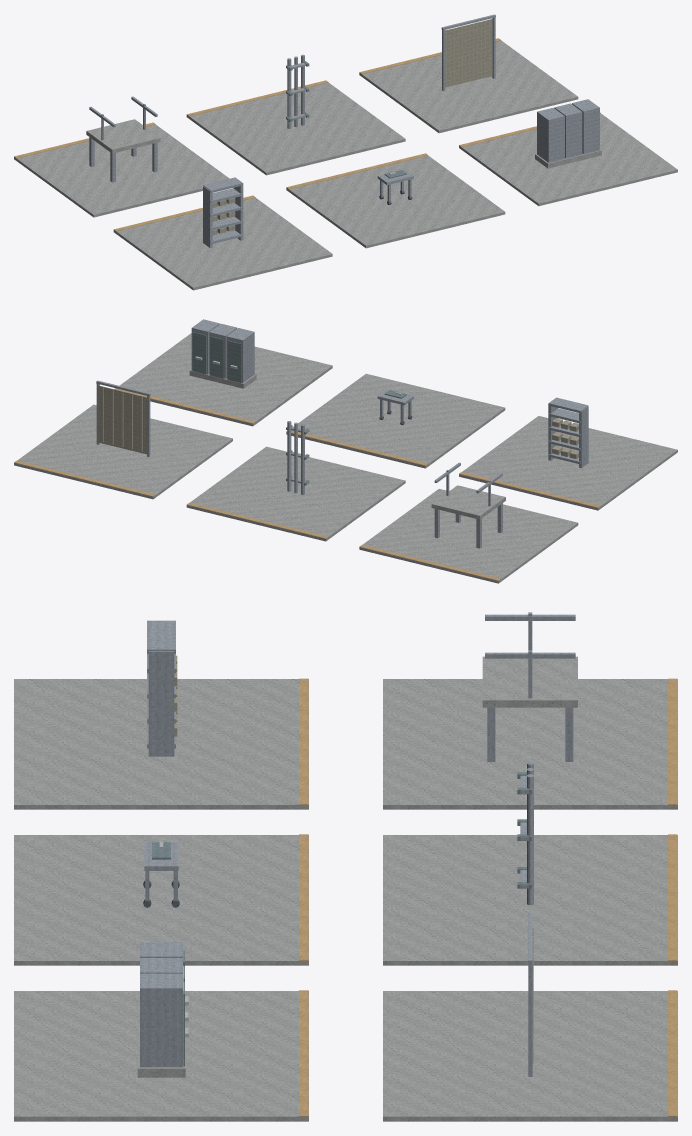
File: level_blockout_kit_asylum_p03.glb
3 views of the same model, one above another, from view 1: azimuth 30°, elevation 25°; view 2: azimuth 150°, elevation 25°; view 3: azimuth 270°, elevation 25° (orthographic). The views are drawn at different scales.
Parts seen in each view (by area): view 1: level_blockout_kit_asylum_p03; view 2: level_blockout_kit_asylum_p03; view 3: level_blockout_kit_asylum_p03.
Boxes of the visible parts, x1,y1,x2,y2 form: level_blockout_kit_asylum_p03: (14,14,677,290); level_blockout_kit_asylum_p03: (14,319,677,583); level_blockout_kit_asylum_p03: (14,612,677,1121).
Bounding box in the file's own units: 19.65 × 2.79 × 12.6.
8 materials, 8 textured.
